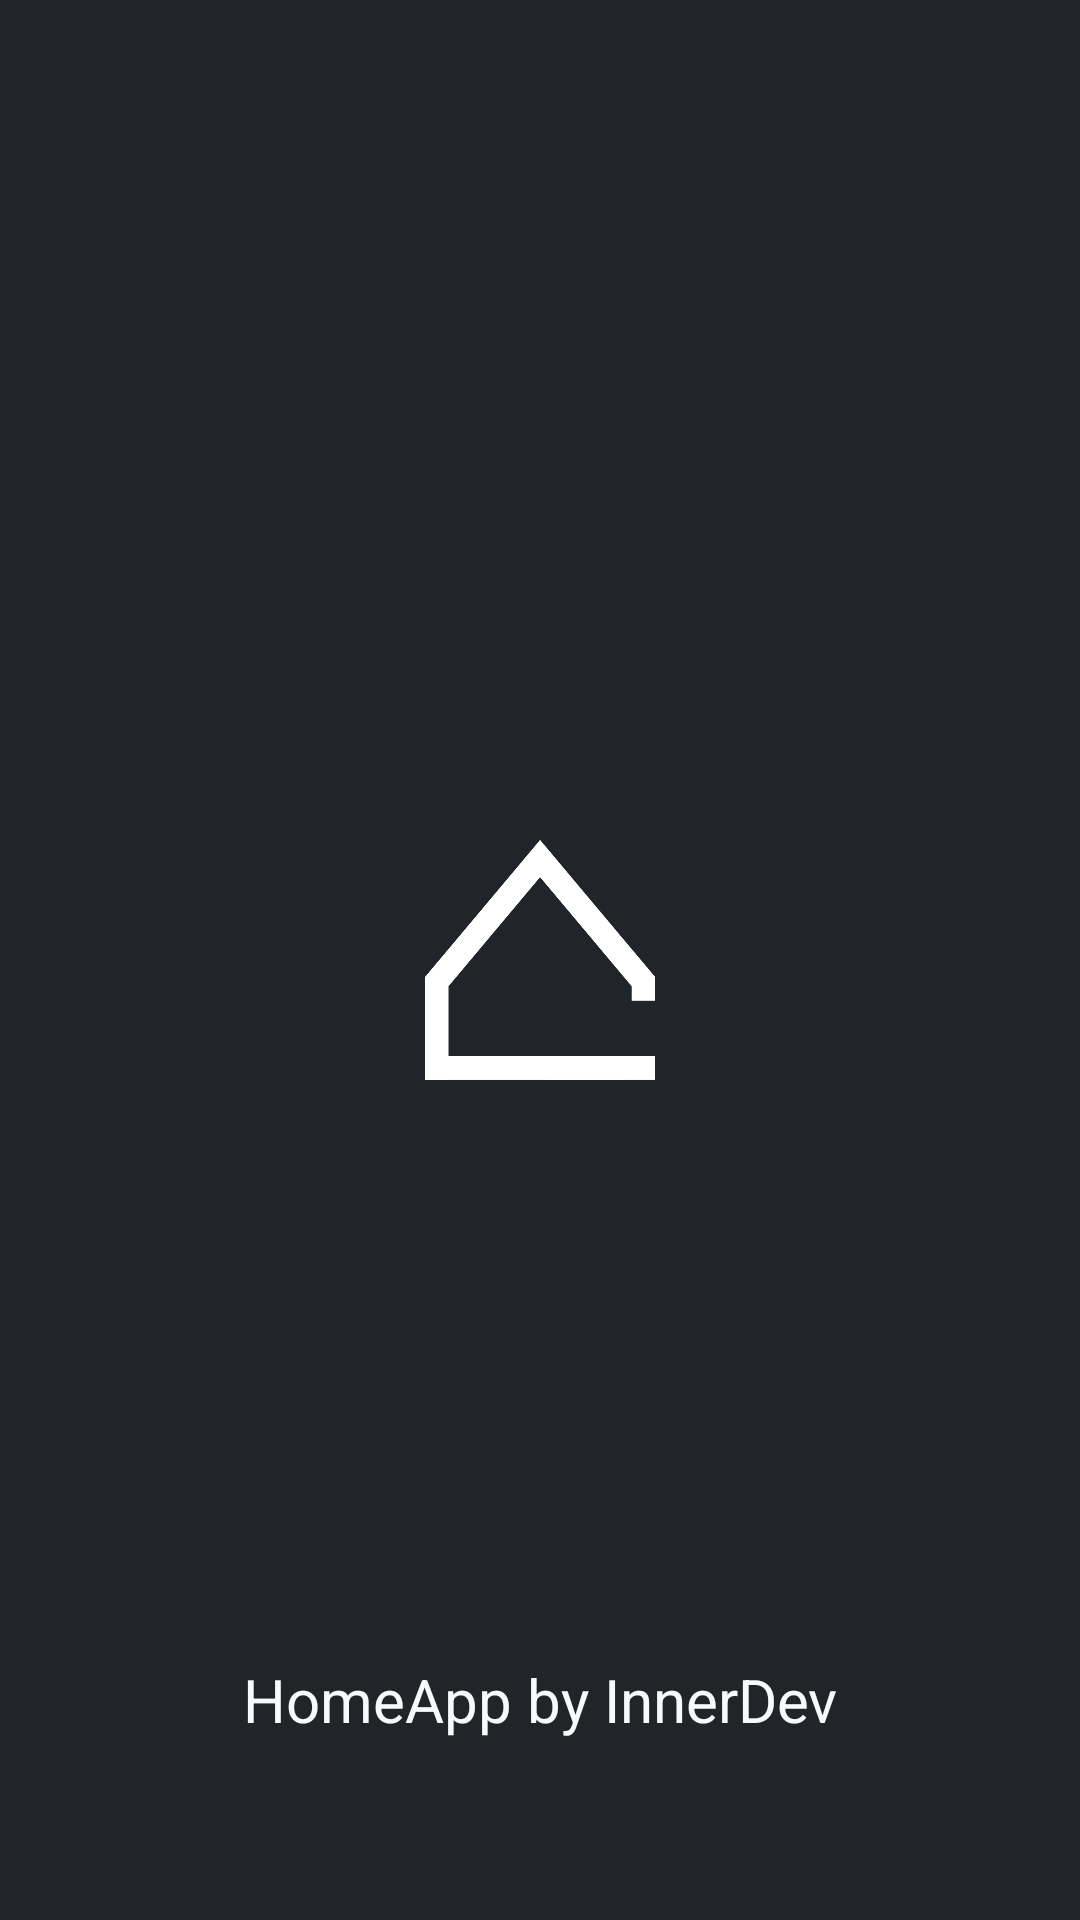

Named icons in this screenshot (1080px×1920px) and their bounding boxes, (x1, y1, x2, y2):
homeappiconw: (425, 840, 655, 1080)
